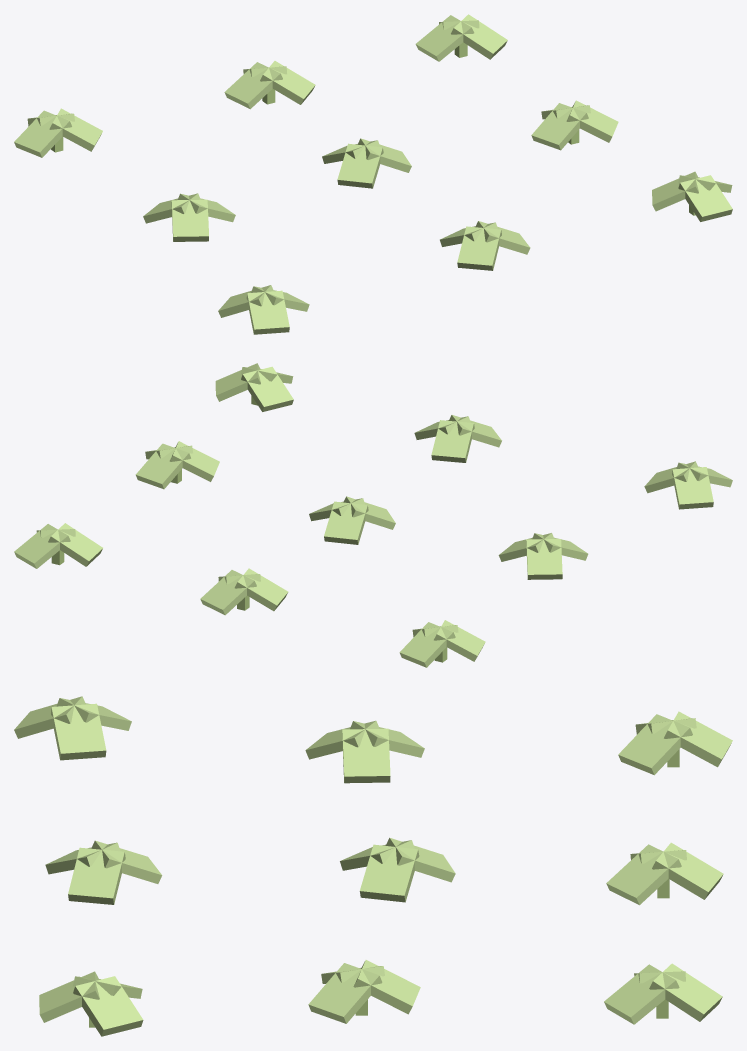
File: crop_cabbage_sprout.glb
The picture shows the model from 3 angles, top to bottom: view 1: azimuth 30°, elevation 25°; view 2: azimuth 150°, elevation 25°; view 3: azimuth 270°, elevation 25°; orthographic projection. The views are drawn at different scales.
Visible parts, largest first — view 1: leaf_light, wheat_green; view 2: leaf_light, wheat_green; view 3: leaf_light, wheat_green.
Boxes of the visible parts, x1,y1,x2,y2 form: leaf_light: [14, 14, 732, 334]; wheat_green: [51, 42, 695, 215]; leaf_light: [14, 363, 732, 667]; wheat_green: [51, 395, 447, 662]; leaf_light: [14, 696, 732, 1036]; wheat_green: [89, 749, 679, 1027].
Bounding box in the file's own units: 0.7454 × 0.0472 × 0.7003.
